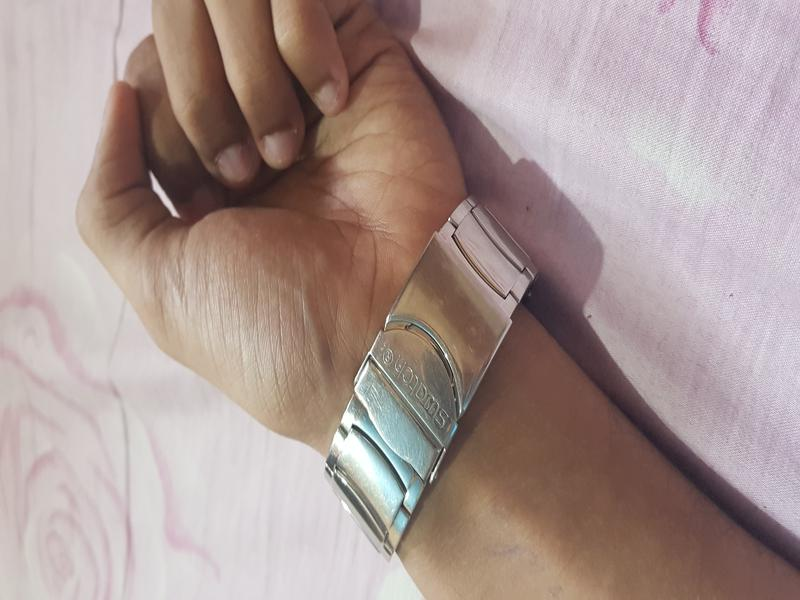watch: (316, 191, 546, 560)
